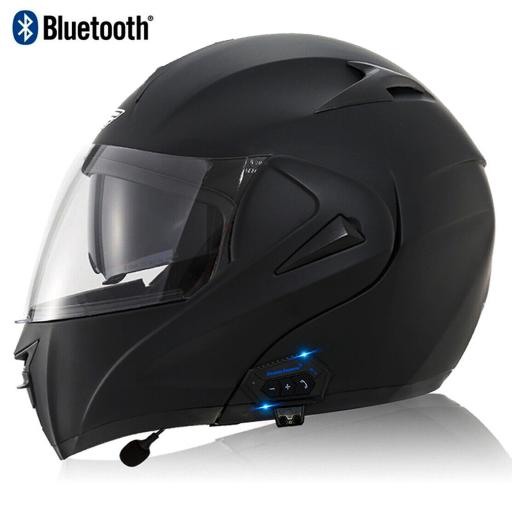helmet-detection: (14, 20, 508, 480)
